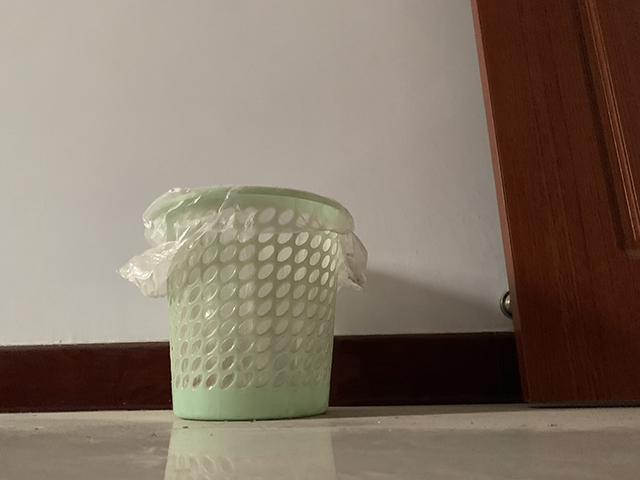trashcan: (117, 178, 370, 422)
